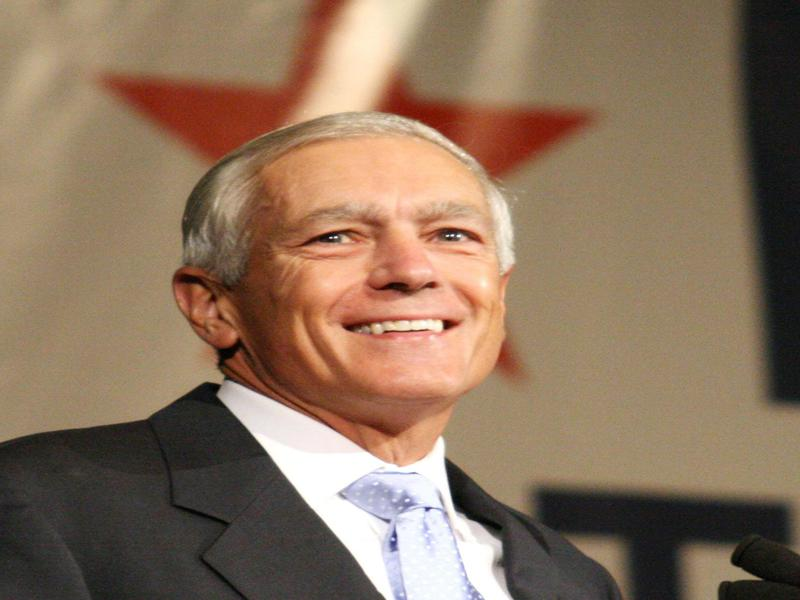person: (1, 110, 628, 598)
